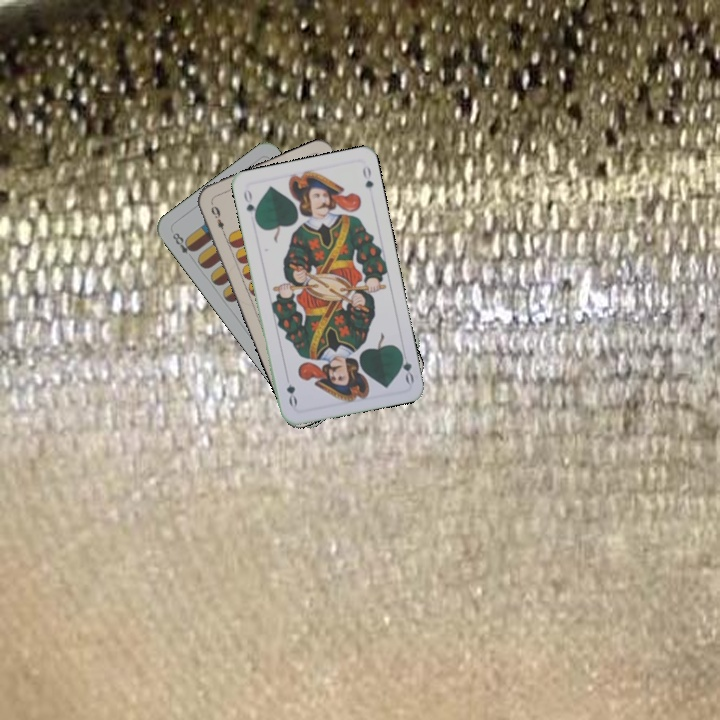E8: (168, 228, 198, 263)
E9: (207, 202, 228, 238)
GO: (395, 346, 417, 386), (240, 186, 260, 225)
